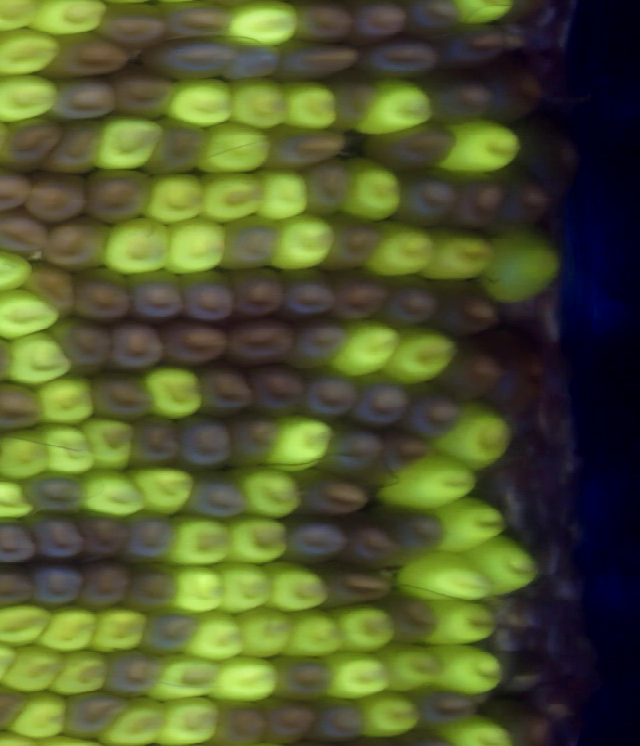fluorescent: (478, 221, 567, 304), (426, 396, 518, 474), (375, 450, 483, 513), (392, 548, 502, 605), (348, 71, 440, 138), (438, 113, 526, 180), (417, 218, 506, 284), (428, 491, 511, 557), (100, 211, 179, 280), (193, 117, 280, 179), (462, 532, 544, 597), (385, 321, 460, 391), (358, 216, 442, 278), (334, 152, 405, 225), (264, 209, 344, 273), (261, 408, 333, 479), (0, 326, 77, 392), (90, 111, 166, 177), (327, 315, 400, 383), (256, 557, 338, 617), (322, 599, 409, 655), (233, 461, 309, 525), (423, 594, 505, 652), (161, 510, 239, 570), (141, 166, 215, 229), (203, 650, 286, 706), (161, 212, 232, 277), (429, 642, 508, 699), (30, 419, 104, 479), (210, 557, 280, 620), (126, 461, 202, 519), (194, 167, 271, 223), (161, 73, 238, 128), (32, 601, 106, 658), (221, 509, 295, 566), (139, 361, 208, 422), (151, 647, 227, 702), (0, 638, 70, 697), (229, 601, 300, 659), (163, 558, 230, 619), (181, 607, 250, 666), (356, 689, 431, 743), (79, 411, 139, 477), (97, 693, 171, 746), (376, 641, 450, 694), (279, 603, 350, 658), (223, 74, 287, 135), (0, 24, 65, 84), (248, 163, 313, 223), (277, 78, 344, 136), (31, 373, 101, 428), (325, 649, 394, 704), (222, 1, 301, 49), (3, 687, 75, 739), (0, 69, 64, 127), (80, 465, 151, 517), (46, 646, 116, 698), (87, 602, 153, 657), (154, 693, 223, 745), (0, 286, 65, 341), (0, 426, 54, 486), (27, 1, 112, 39), (434, 709, 520, 746), (0, 598, 59, 647), (0, 470, 43, 525), (0, 242, 39, 295), (0, 1, 41, 34)
nonfluorescent: (469, 323, 554, 412), (508, 110, 586, 197), (358, 117, 465, 178), (425, 333, 514, 405), (406, 64, 502, 129), (132, 31, 249, 84), (35, 26, 138, 85), (473, 52, 552, 127), (76, 164, 163, 231), (366, 501, 452, 567), (424, 271, 505, 340), (35, 110, 114, 180), (389, 166, 470, 233), (143, 112, 219, 183), (214, 312, 307, 370), (257, 120, 352, 176), (286, 464, 376, 522), (368, 270, 447, 336), (425, 18, 517, 74), (308, 558, 398, 615), (265, 37, 369, 86), (367, 587, 447, 650), (167, 266, 248, 328), (17, 166, 94, 230), (352, 31, 448, 82), (318, 416, 392, 482), (150, 313, 235, 370), (485, 166, 557, 233), (86, 1, 175, 55), (276, 509, 356, 569), (39, 210, 115, 273), (314, 207, 390, 270), (168, 410, 242, 474), (403, 682, 490, 736), (108, 56, 178, 123), (317, 65, 377, 143), (67, 260, 140, 324), (85, 363, 162, 423), (477, 692, 562, 746), (180, 463, 255, 524), (321, 264, 396, 325), (51, 312, 120, 378), (40, 71, 124, 125), (443, 168, 513, 232), (365, 425, 436, 488), (397, 378, 468, 441), (333, 513, 410, 571), (215, 212, 292, 270), (344, 369, 417, 430), (217, 406, 281, 475), (93, 644, 165, 705), (271, 264, 349, 320), (241, 359, 315, 418), (59, 686, 133, 744), (267, 647, 341, 705), (0, 111, 63, 178), (194, 356, 262, 418), (283, 310, 351, 372), (100, 316, 172, 374), (124, 410, 191, 472), (151, 1, 237, 49), (224, 263, 296, 320), (23, 556, 93, 614), (122, 268, 197, 322), (214, 36, 289, 90), (17, 507, 88, 563), (297, 362, 361, 424), (20, 255, 84, 317), (118, 555, 184, 615), (296, 154, 360, 215), (521, 668, 587, 727), (251, 692, 324, 745), (16, 469, 98, 516), (120, 504, 182, 565), (306, 693, 376, 746), (135, 604, 202, 659), (73, 553, 133, 614), (206, 695, 276, 746), (284, 1, 358, 47), (0, 378, 54, 441), (71, 509, 135, 562), (0, 205, 55, 263), (394, 1, 466, 45), (346, 1, 411, 49), (0, 556, 44, 617), (0, 513, 41, 568), (0, 164, 39, 221), (0, 680, 31, 738)
